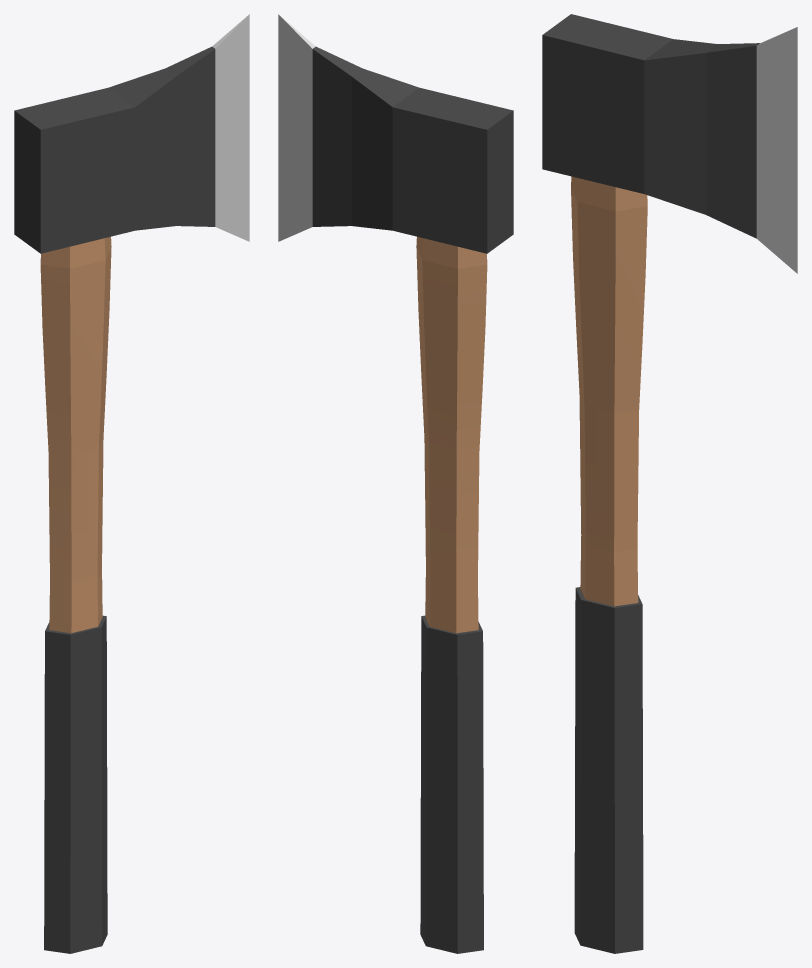
File: PP_Axe.glb
3 renders of one model, left to right at view 1: azimuth 30°, elevation 25°; view 2: azimuth 150°, elevation 25°; view 3: azimuth 330°, elevation 25°, orthographic. The views are drawn at different scales.
Visible parts, largest first — view 1: PP_Axe_New_04_Iron; view 2: PP_Axe_New_04_Iron; view 3: PP_Axe_New_04_Iron.
Part boxes in pixels (left/top/right/bottom): PP_Axe_New_04_Iron: left=14, top=14, right=249, bottom=953; PP_Axe_New_04_Iron: left=278, top=14, right=513, bottom=953; PP_Axe_New_04_Iron: left=542, top=14, right=797, bottom=953.
Bounding box in the file's own units: 0.2135 × 0.8139 × 0.0447.
Materials: 1 (1 with a texture image).
